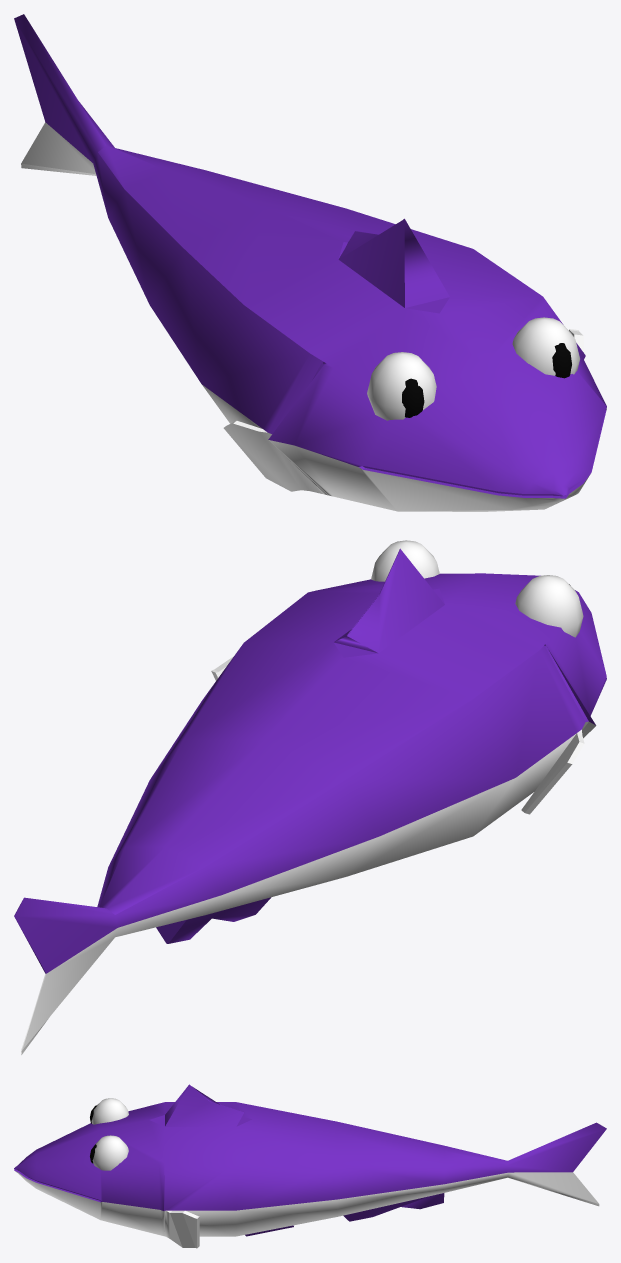
The model's file is pezSardina1 (1).fbx.
3 renders of one model, top to bottom at view 1: azimuth 30°, elevation 25°; view 2: azimuth 150°, elevation 25°; view 3: azimuth 270°, elevation 25°, orthographic. The views are drawn at different scales.
Visible parts, largest first — view 1: Cylinder001, Sphere001, Sphere002, Sphere003; view 2: Cylinder001, Sphere001, Sphere002; view 3: Cylinder001, Sphere002, Sphere001.
Boxes of the visible parts, x1,y1,x2,y2 form: Cylinder001: [14, 14, 606, 511]; Sphere001: [367, 352, 436, 420]; Sphere002: [512, 317, 579, 375]; Sphere003: [402, 378, 424, 417]; Cylinder001: [14, 548, 606, 1054]; Sphere001: [515, 575, 583, 637]; Sphere002: [371, 540, 439, 581]; Cylinder001: [14, 1084, 606, 1248]; Sphere002: [92, 1135, 128, 1170]; Sphere001: [91, 1098, 128, 1124].
Size of the model in its own units: 79.91 by 60.13 by 212.
